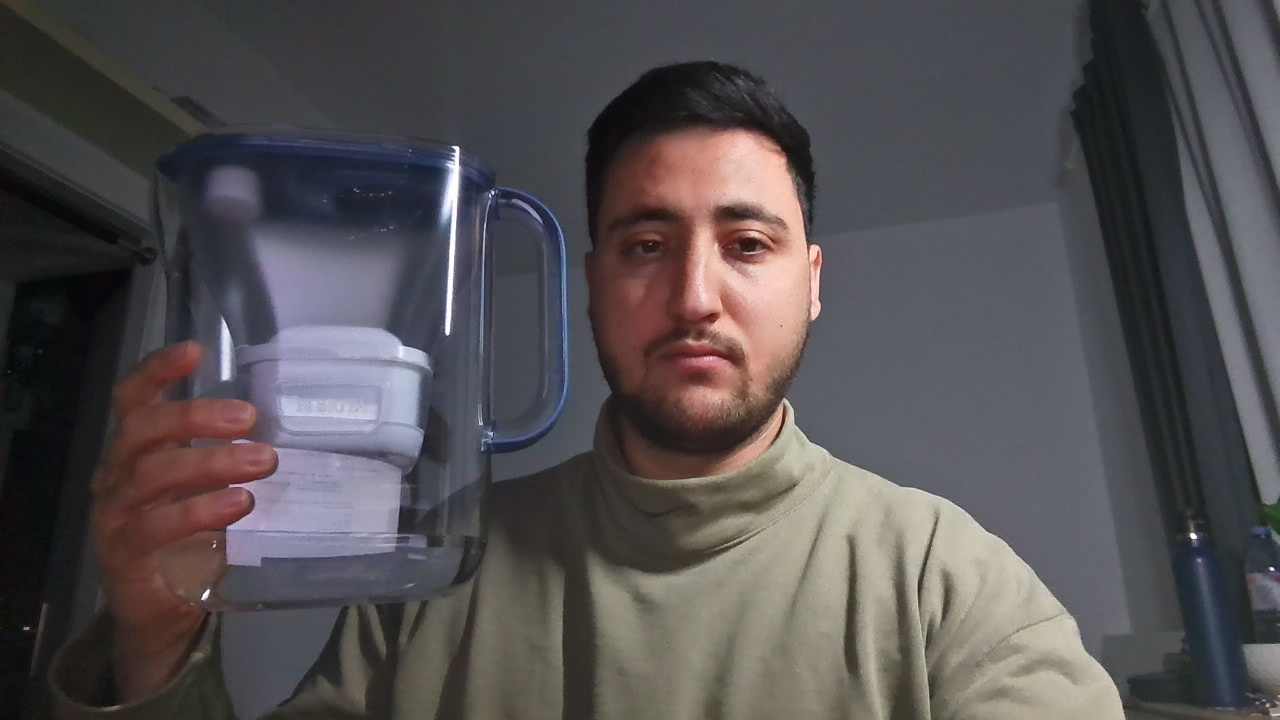Wasserflasche: (1149, 493, 1252, 706)
Wasserkanne: (120, 113, 572, 619)
me: (557, 56, 859, 476)
